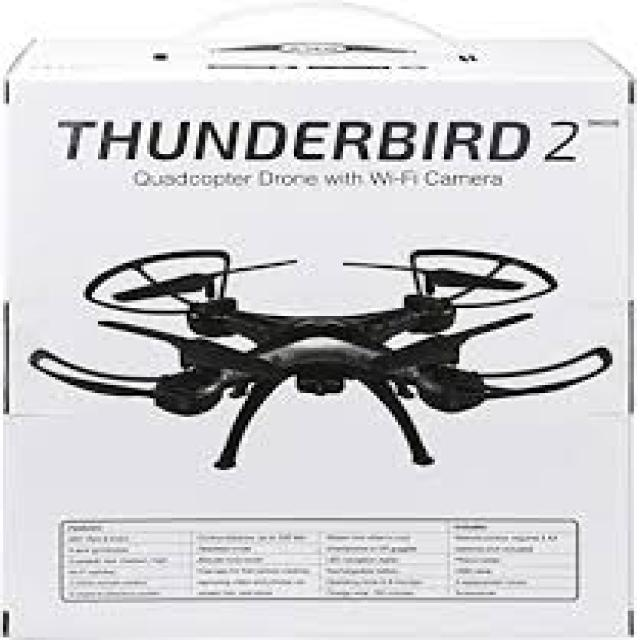drone: (21, 224, 626, 480)
